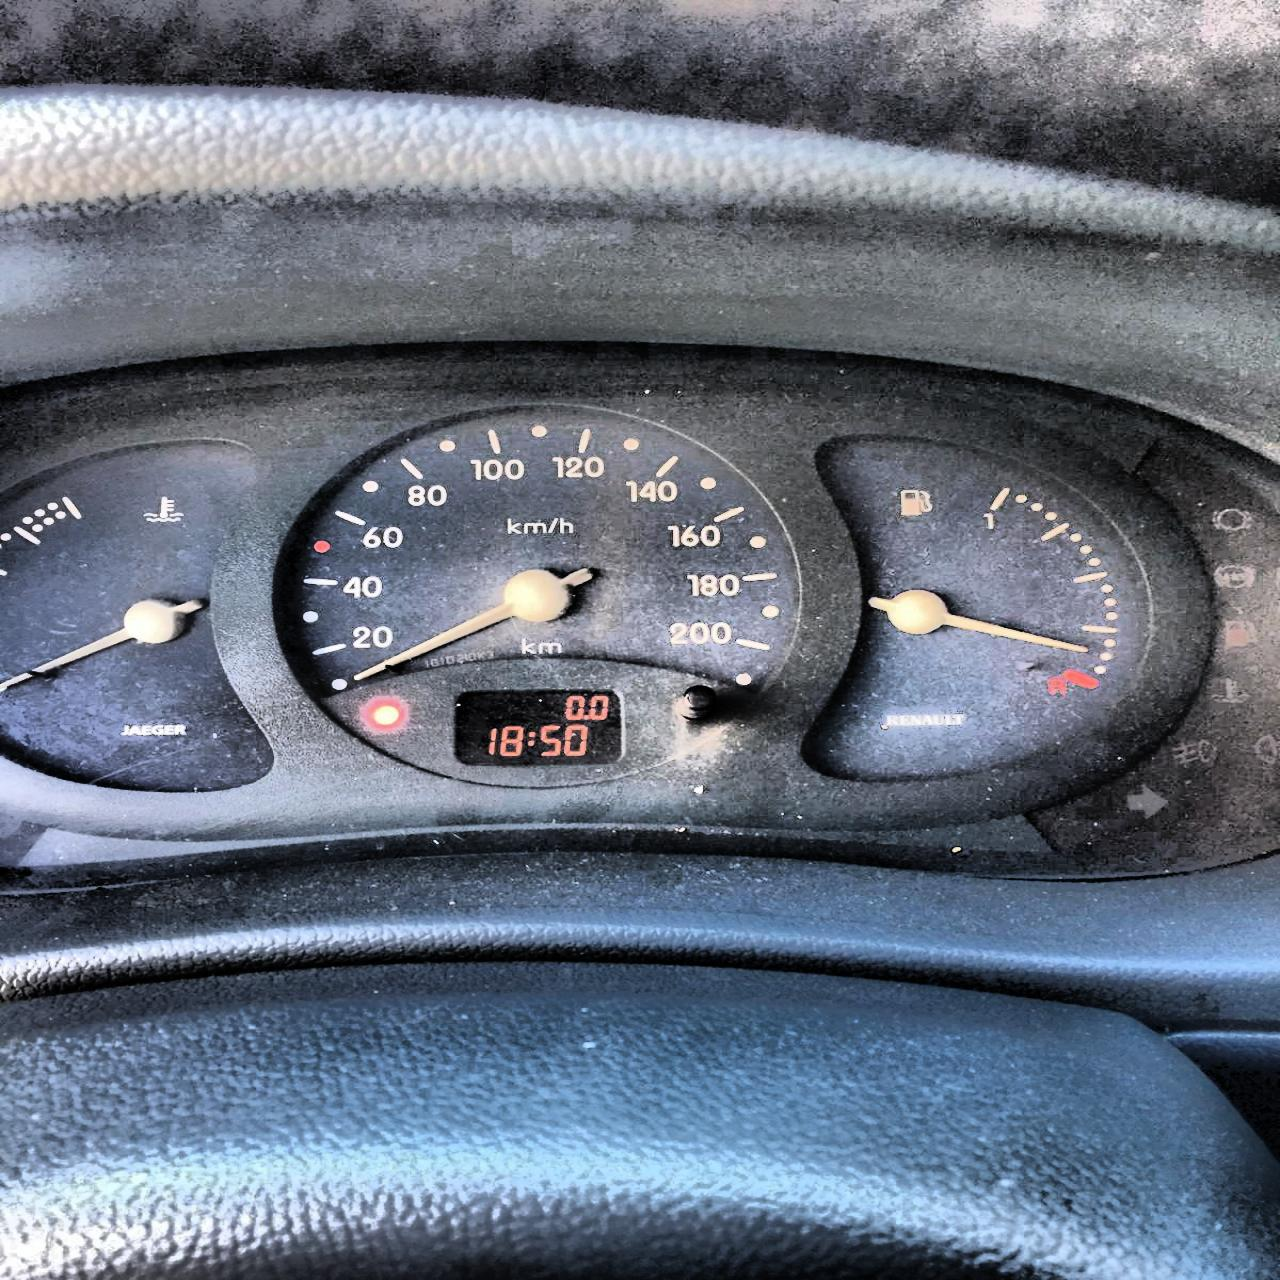-: (583, 715, 588, 720)
0: (563, 724, 587, 755), (587, 695, 608, 719), (565, 695, 584, 719)
1: (486, 727, 496, 756)
5: (539, 724, 560, 755)
8: (499, 726, 523, 756)
X: (526, 730, 535, 745)
odometer: (450, 687, 625, 768)
